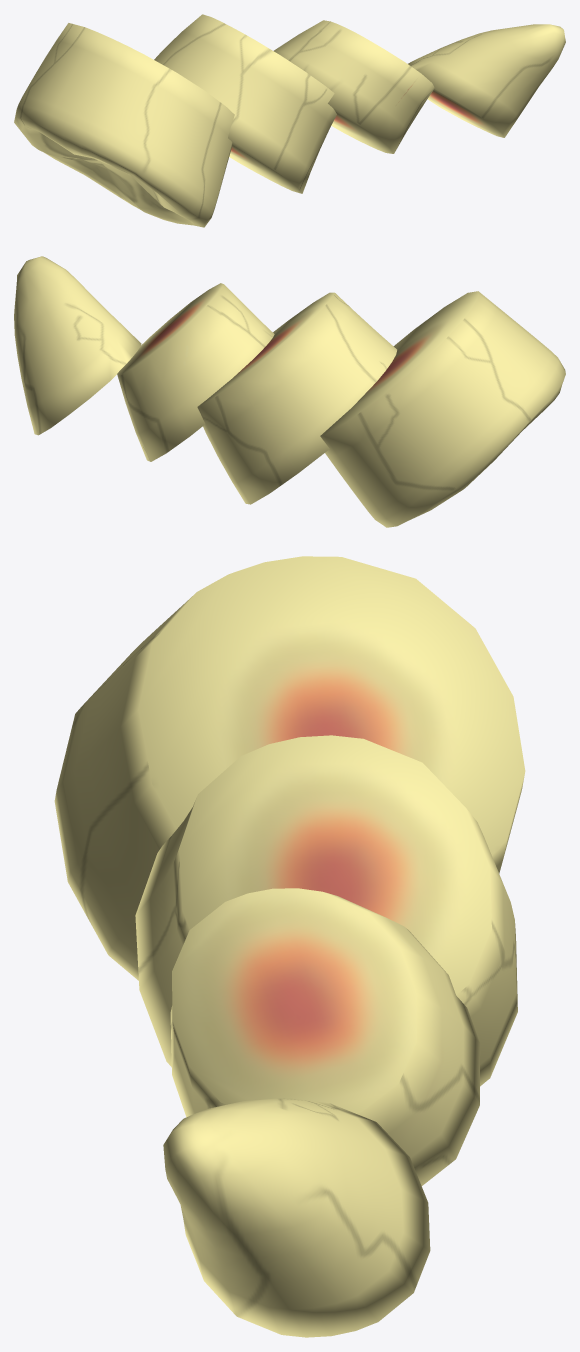
The model's file is PresaDeLobo_cortada.fbx.
3 renders of one model, top to bottom at view 1: azimuth 30°, elevation 25°; view 2: azimuth 150°, elevation 25°; view 3: azimuth 270°, elevation 25°, orthographic. The views are drawn at different scales.
Visible parts, largest first — view 1: PresaDeLobo_cortada; view 2: PresaDeLobo_cortada; view 3: PresaDeLobo_cortada.
Boxes of the visible parts, x1,y1,x2,y2 form: PresaDeLobo_cortada: (14, 14, 565, 227); PresaDeLobo_cortada: (14, 256, 565, 527); PresaDeLobo_cortada: (54, 556, 525, 1337).
Bounding box in the file's own units: 284 × 109 × 113.
Materials: 1 (1 with a texture image).
